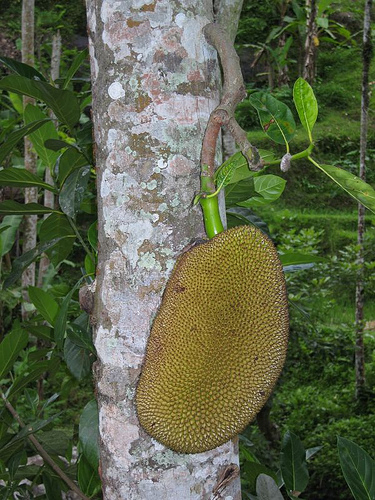jackfruit: (133, 227, 288, 456)
